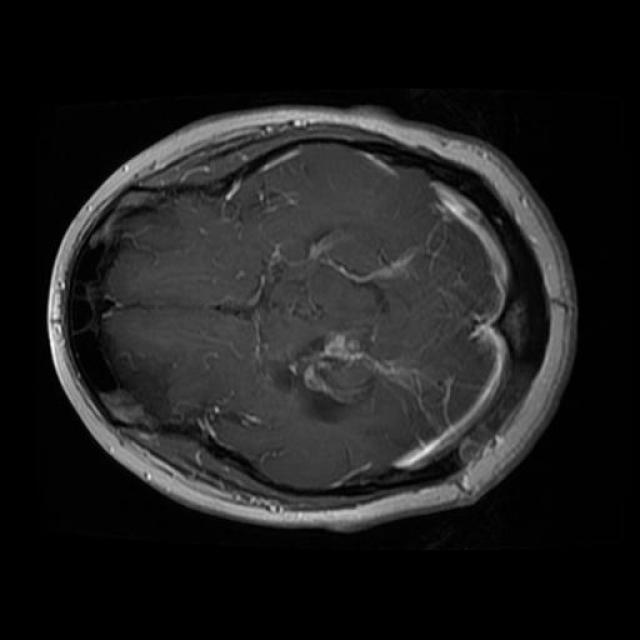Glioma: (275, 330, 379, 422)
